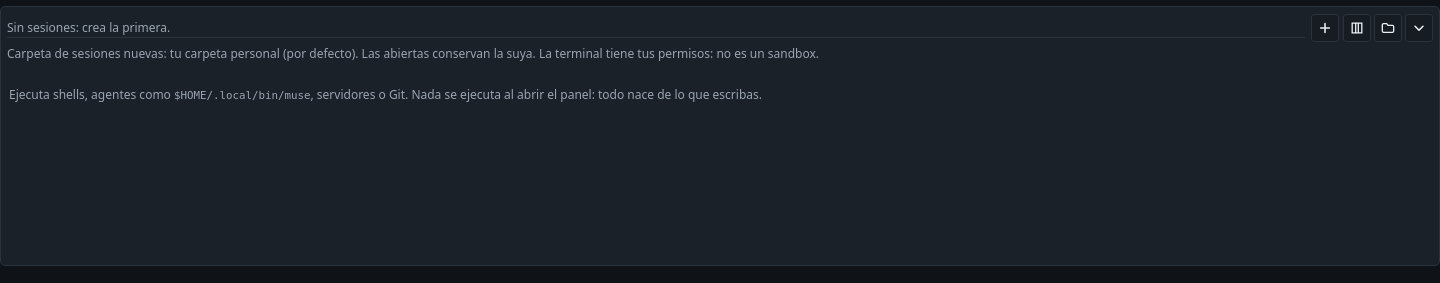
Test: terminales: pestañas y paralelo › crea dos sesiones con una sola tira y un solo viewport
This screenshot has width=1440, height=283.
Click the button named "Nueva terminal": (1325, 28) [1311,14,1339,42]
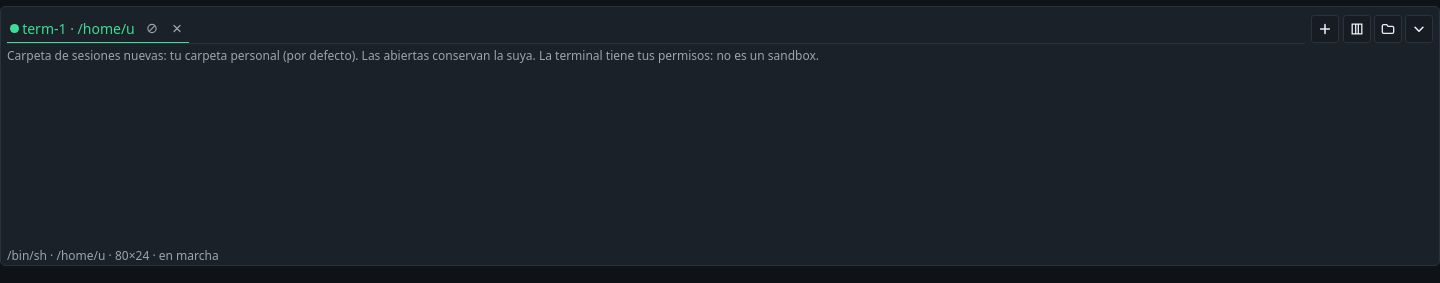
Check: the number of tabs is 1, box [7,14,138,42]
Click the button named "Nueva terminal": (1325, 29) [1311,15,1339,43]
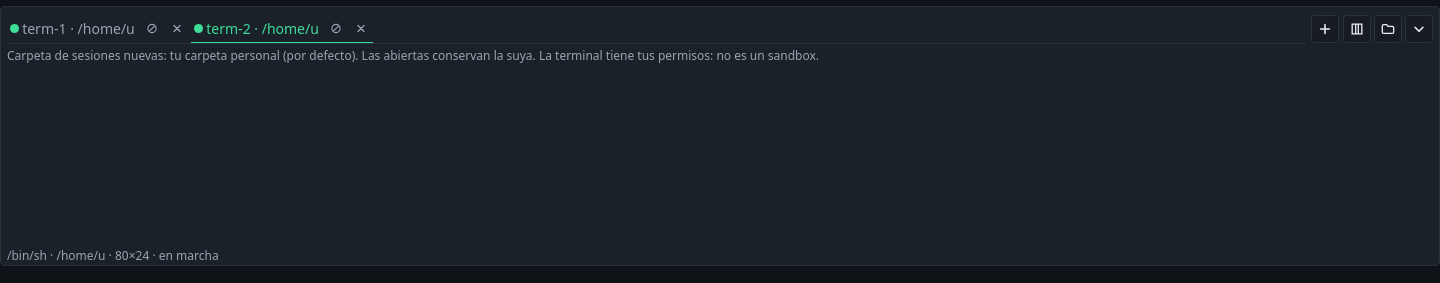
Check: the number of tabs is 2, box [7,14,138,42]; [191,14,322,42]
